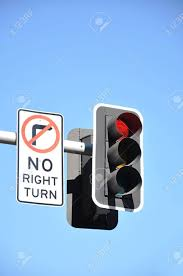No_right_turn: (22, 114, 60, 153)
